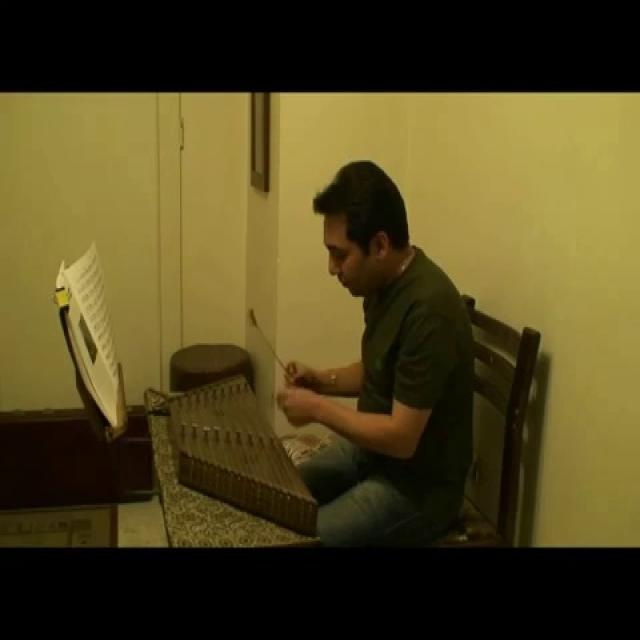Santur: (161, 358, 338, 543)
